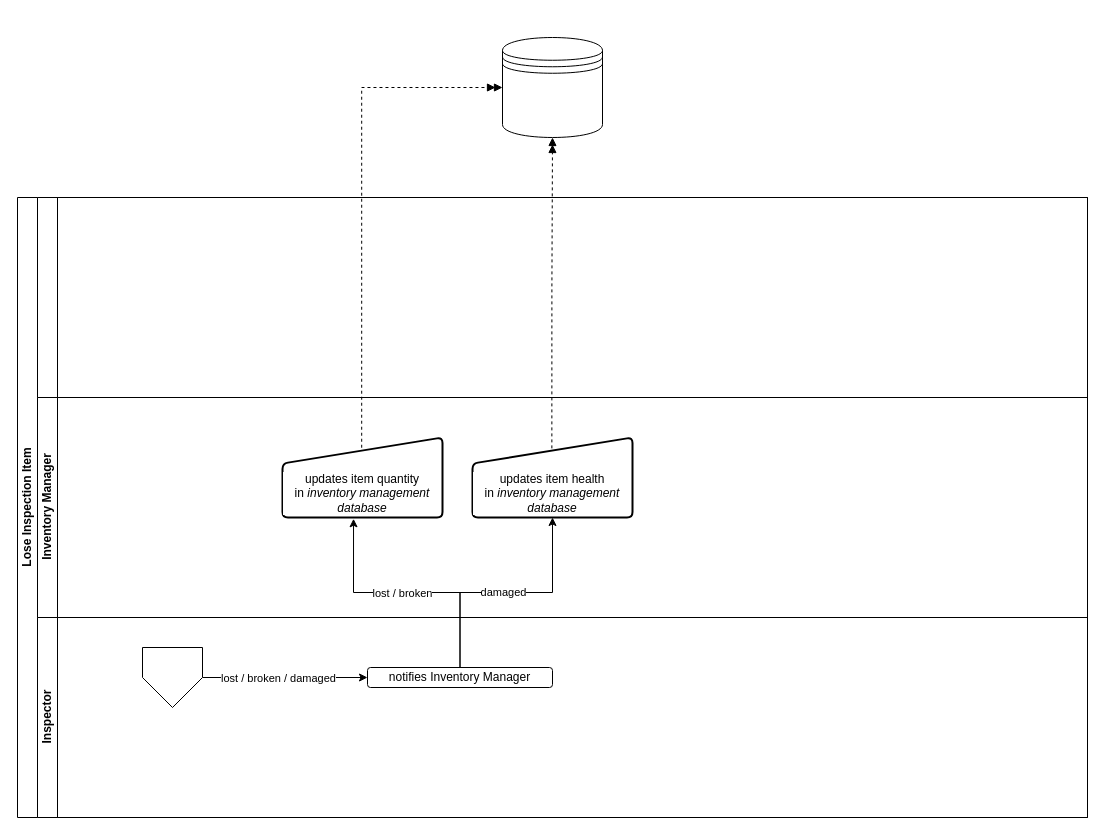
Some shapes in this 1105 by 835 pixel diagram are drawn without their labels. The shapes that lost their labels are listed below. From the top down, each one's centre as x and y in pixels, then its label:
At [552,87]: "Inventory Management Database".
At [562,297]: "Project Manager".
At [172,677]: "lost / broken / damaged inspection item".
